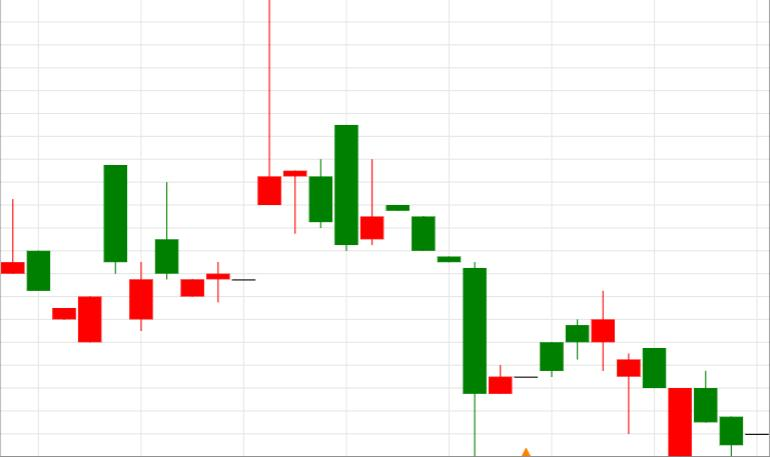shooting_star_fall: (129, 0, 281, 331)
